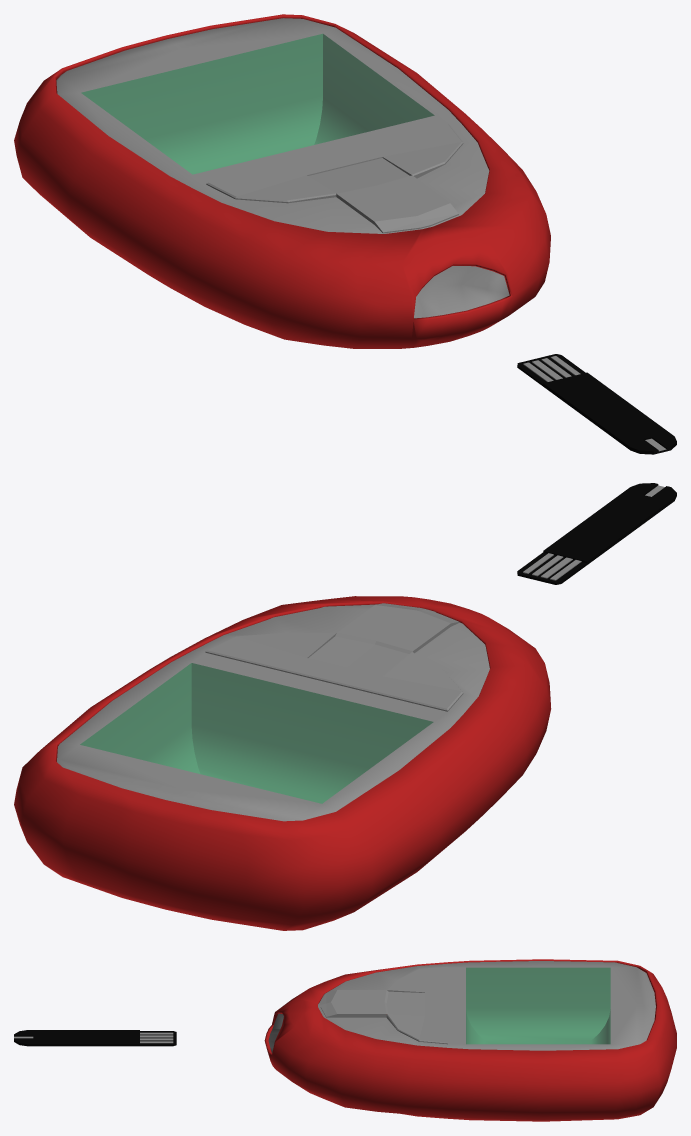
File: tamagotchi.gltf
3 renders of one model, top to bottom at view 1: azimuth 30°, elevation 25°; view 2: azimuth 150°, elevation 25°; view 3: azimuth 270°, elevation 25°, orthographic. The views are drawn at different scales.
Visible parts, largest first — view 1: cover, screenbox, screen, device, button.center, Plane, button.left, button.right, Plane.001; view 2: cover, screenbox, screen, device, button.center, Plane, button.left, button.right, Plane.001; view 3: cover, screenbox, screen, device, button.center, Plane, button.right, button.left, Plane.001.
Boxes of the visible parts, x1=… form: cover: x1=14, y1=14, x2=550, y2=348; screenbox: x1=81, y1=33, x2=434, y2=174; screen: x1=82, y1=34, x2=433, y2=173; device: x1=56, y1=18, x2=509, y2=318; button.center: x1=307, y1=157, x2=458, y2=233; Plane: x1=517, y1=354, x2=676, y2=454; button.left: x1=206, y1=153, x2=343, y2=203; button.right: x1=328, y1=124, x2=463, y2=178; Plane.001: x1=523, y1=356, x2=580, y2=381; cover: x1=14, y1=596, x2=551, y2=930; screenbox: x1=80, y1=663, x2=433, y2=803; screen: x1=80, y1=663, x2=432, y2=803; device: x1=57, y1=604, x2=489, y2=821; button.center: x1=307, y1=603, x2=459, y2=676; Plane: x1=517, y1=483, x2=676, y2=584; button.left: x1=327, y1=652, x2=463, y2=711; button.right: x1=205, y1=632, x2=344, y2=682; Plane.001: x1=523, y1=553, x2=581, y2=580; cover: x1=264, y1=959, x2=676, y2=1121; screenbox: x1=466, y1=967, x2=610, y2=1044; screen: x1=466, y1=968, x2=610, y2=1043; device: x1=268, y1=961, x2=655, y2=1052; button.center: x1=320, y1=990, x2=424, y2=1017; Plane: x1=14, y1=1030, x2=176, y2=1046; button.right: x1=386, y1=1004, x2=447, y2=1044; button.left: x1=387, y1=966, x2=447, y2=1004; Plane.001: x1=140, y1=1032, x2=173, y2=1043.
Size of the model in its own units: 3.43 by 1.01 by 8.21.
